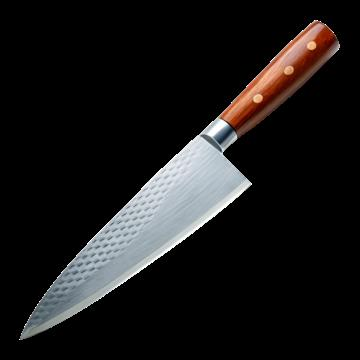Knife: (18, 18, 340, 340)
